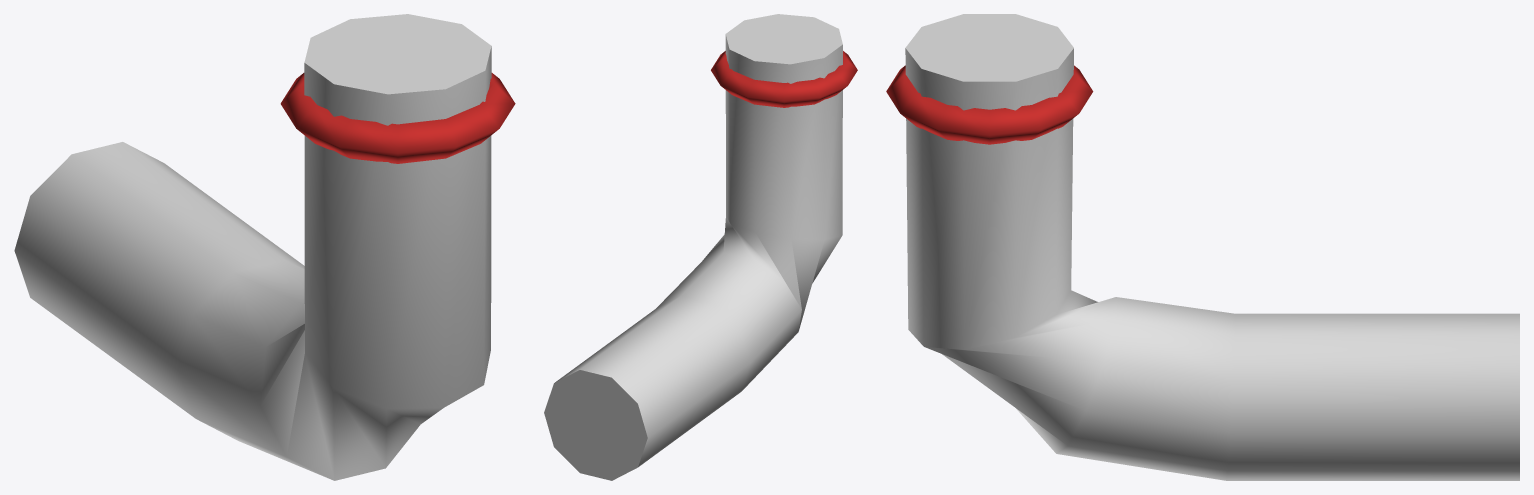
File: sock.glb
The picture shows the model from 3 angles, left to right: view 1: azimuth 30°, elevation 25°; view 2: azimuth 150°, elevation 25°; view 3: azimuth 270°, elevation 25°; orthographic projection. The views are drawn at different scales.
Visible parts, largest first — view 1: main; view 2: main; view 3: main.
Boxes of the visible parts, x1,y1,x2,y2 form: main: [14, 14, 515, 480]; main: [544, 14, 857, 480]; main: [886, 14, 1519, 480].
Bounding box in the file's own units: 0.086 × 0.1933 × 0.263.
